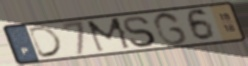6: (185, 8, 218, 43)
7: (59, 19, 89, 57)
D: (27, 25, 65, 60)
G: (151, 11, 190, 47)
M: (84, 16, 134, 54)
S: (121, 15, 158, 49)
